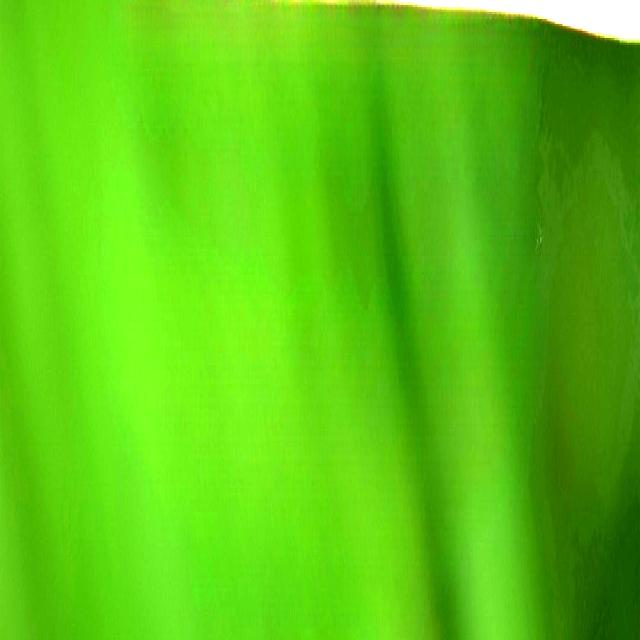BLB: (413, 0, 639, 31)
